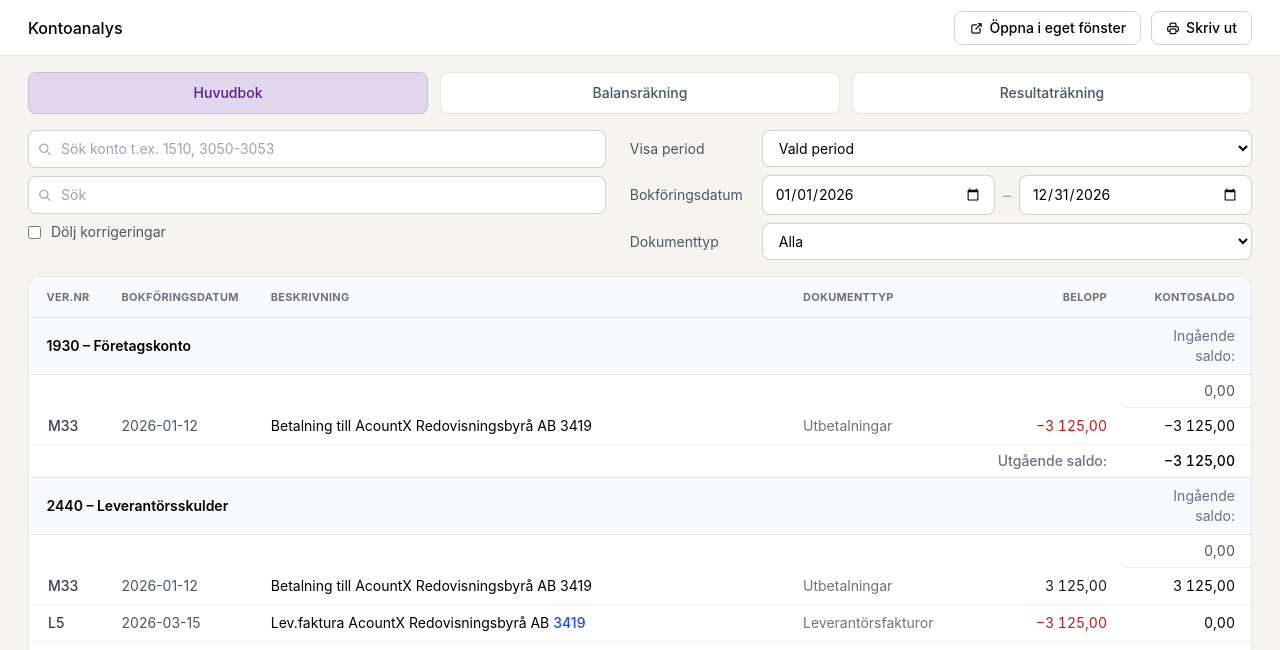
Scenario: Kontoanalys – hela raden expanderar (ingen pilikon, ingen navigation) › expand använder redan laddad data – ingen extra fetch per verifikation
Click the text "L5" at (641, 623), box top-left (30, 604), bottom-right (1251, 642)
(page scrolled)
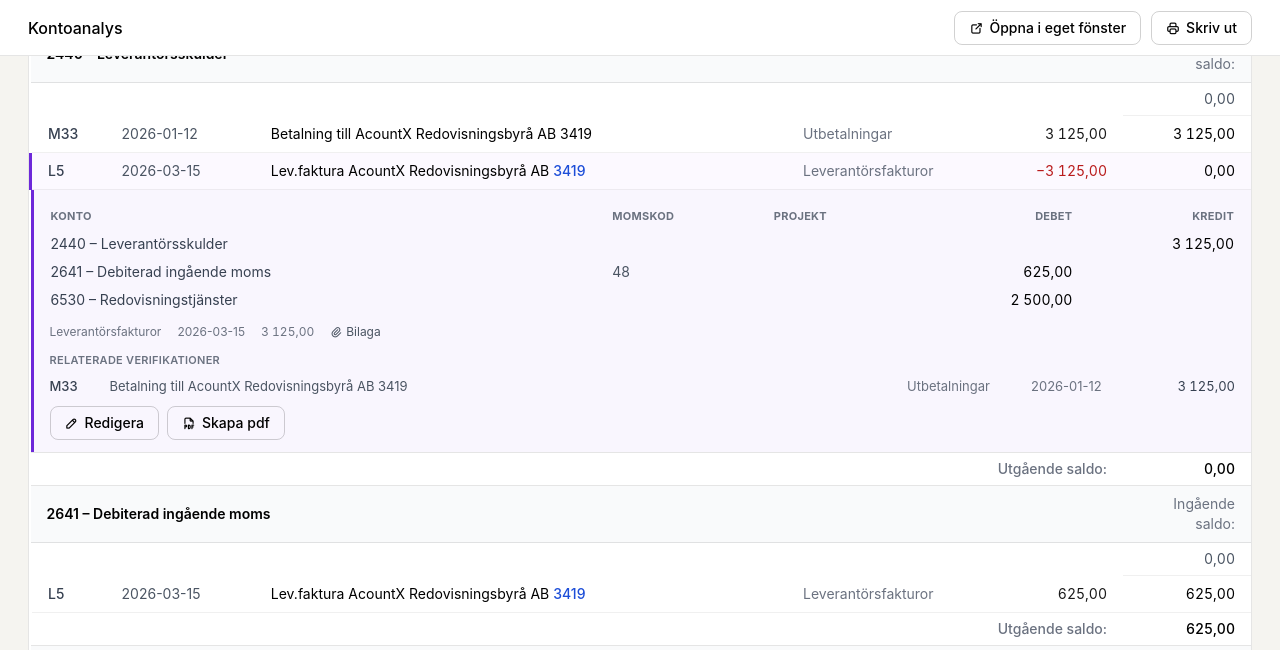
Expected: the text "Relaterade verifikationer" is shown, top-left (50, 353), bottom-right (220, 367)
